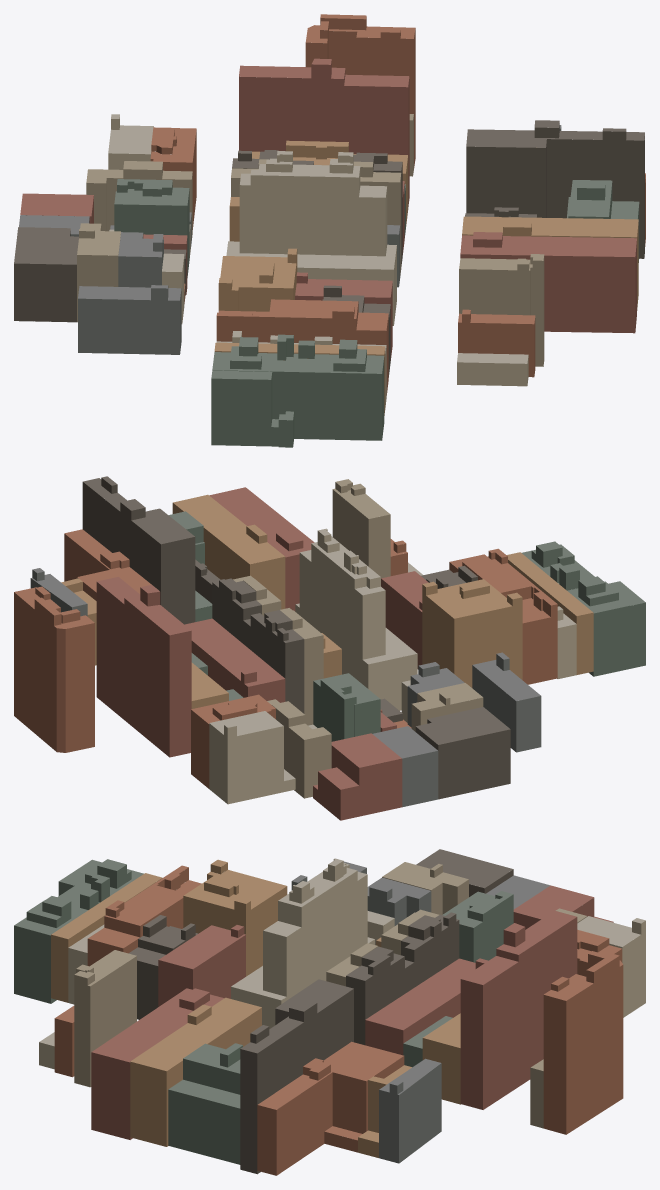
Rendered from tile--2_5.glb.
3 renders of one model, top to bottom at view 1: azimuth 30°, elevation 25°; view 2: azimuth 150°, elevation 25°; view 3: azimuth 270°, elevation 25°, orthographic. The views are drawn at different scales.
Visible parts, largest first — view 1: wall, roof; view 2: wall, roof; view 3: wall, roof.
Part boxes in pixels (box(x1,y1,x2,y2)): wall: box(14, 17, 645, 447); roof: box(14, 14, 645, 427); wall: box(14, 478, 645, 820); roof: box(14, 476, 645, 789); wall: box(14, 859, 645, 1175); roof: box(14, 849, 645, 1142).
Bounding box in the file's own units: 229 × 62.62 × 222.
